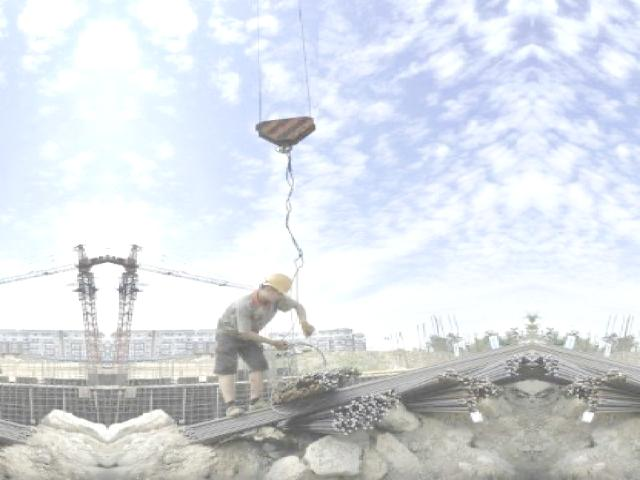Helmet: (259, 269, 296, 300)
